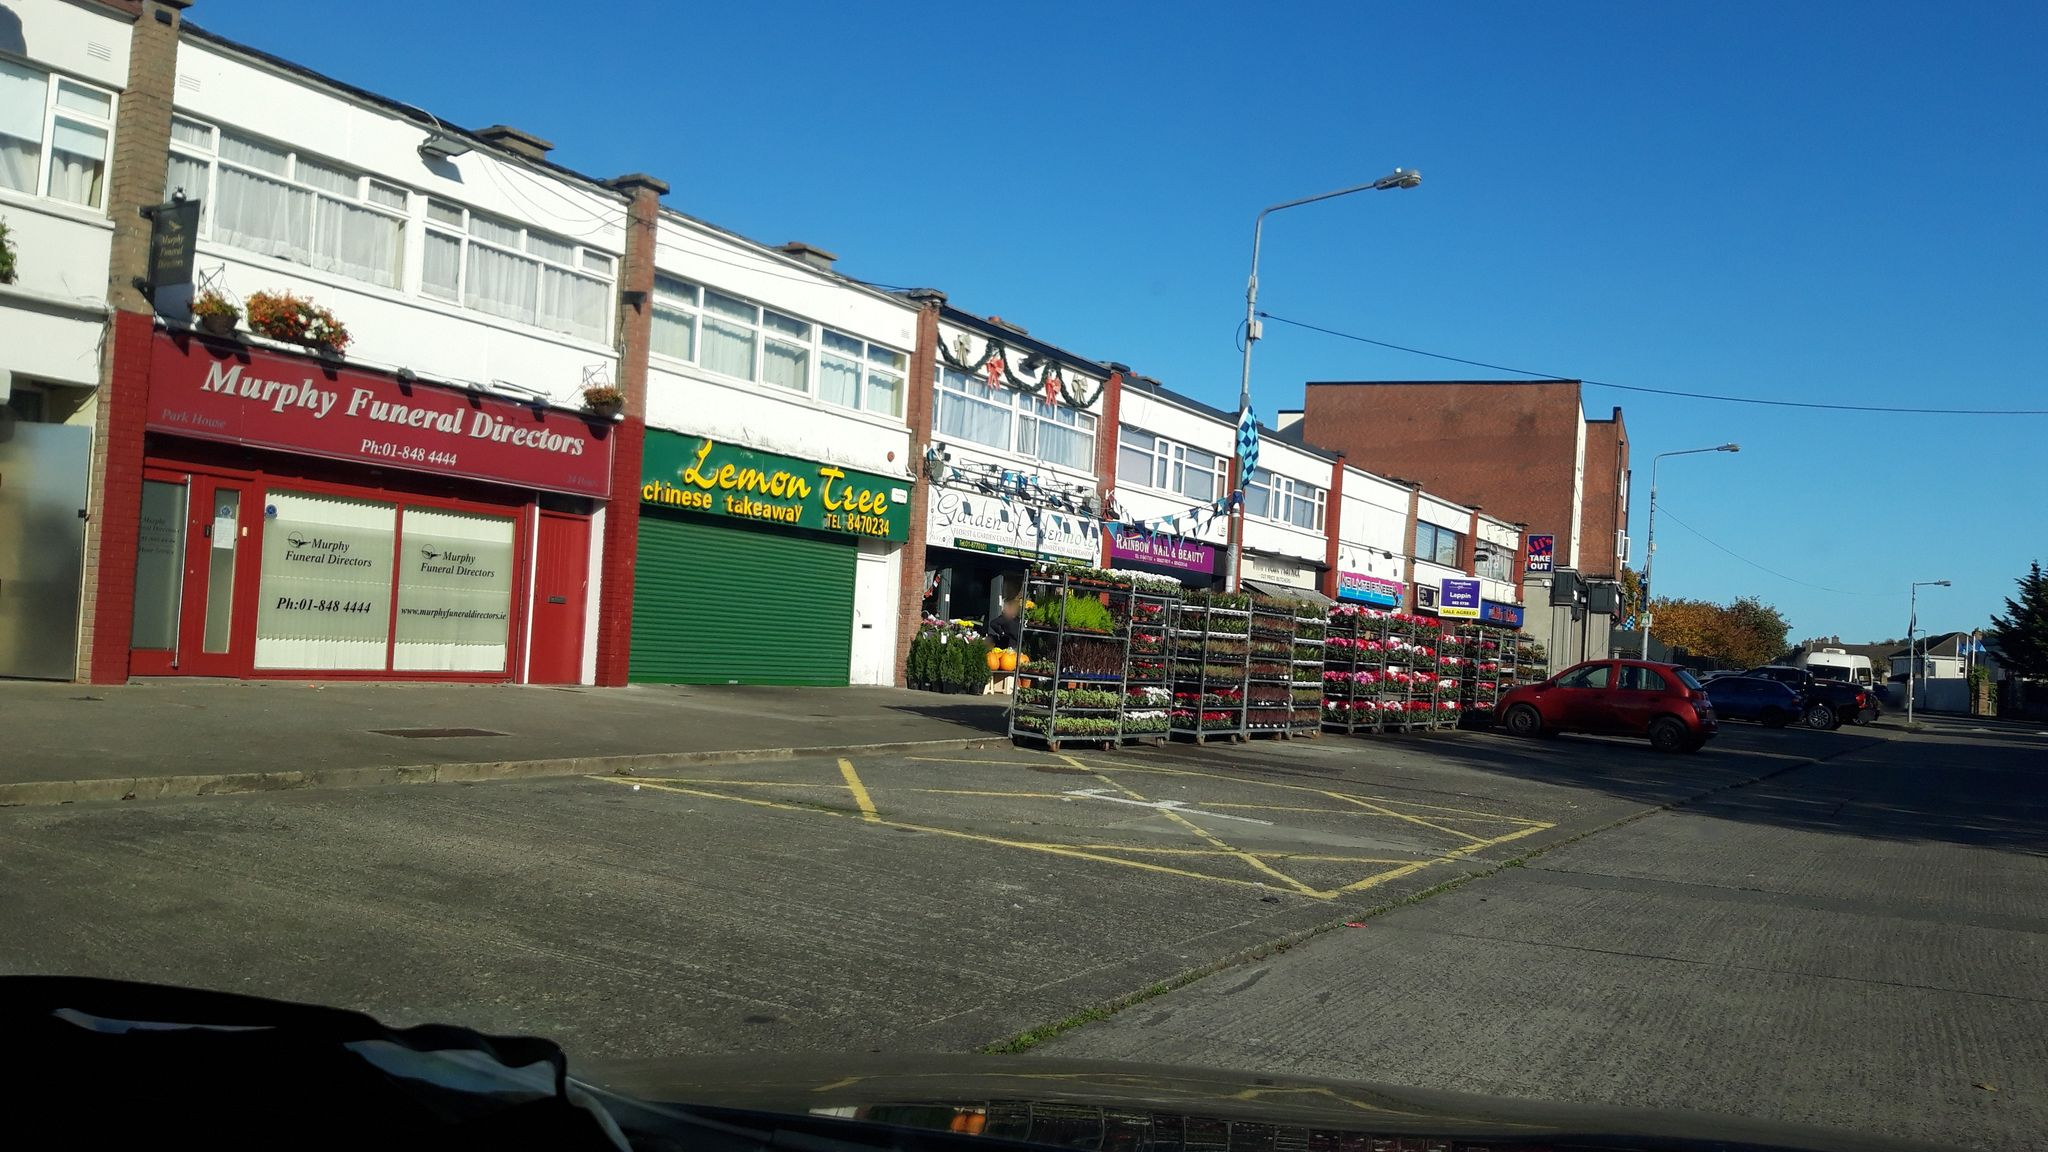property sign: (1435, 558, 1485, 625)
